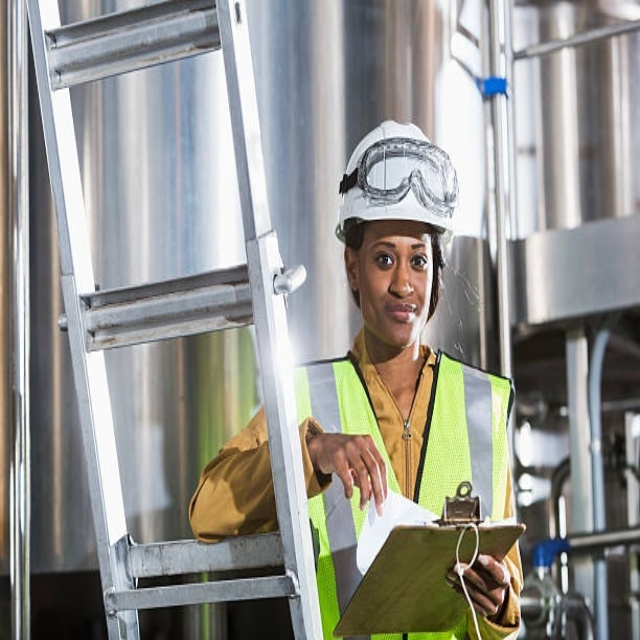Sin_gafas: (366, 235, 436, 273)
Sin_guantes: (309, 429, 389, 513), (448, 551, 513, 621)
Sin_mascara: (381, 298, 421, 337)
